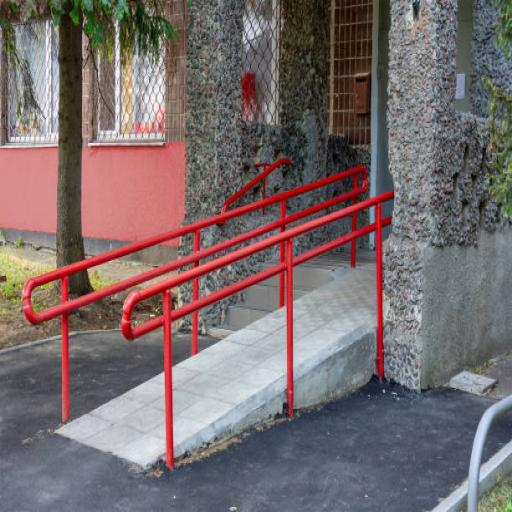ramp: (52, 266, 376, 472)
stairs: (206, 253, 328, 342)
